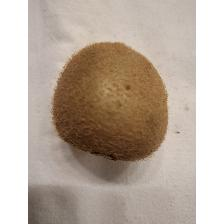Kiwi: (49, 38, 171, 164)
